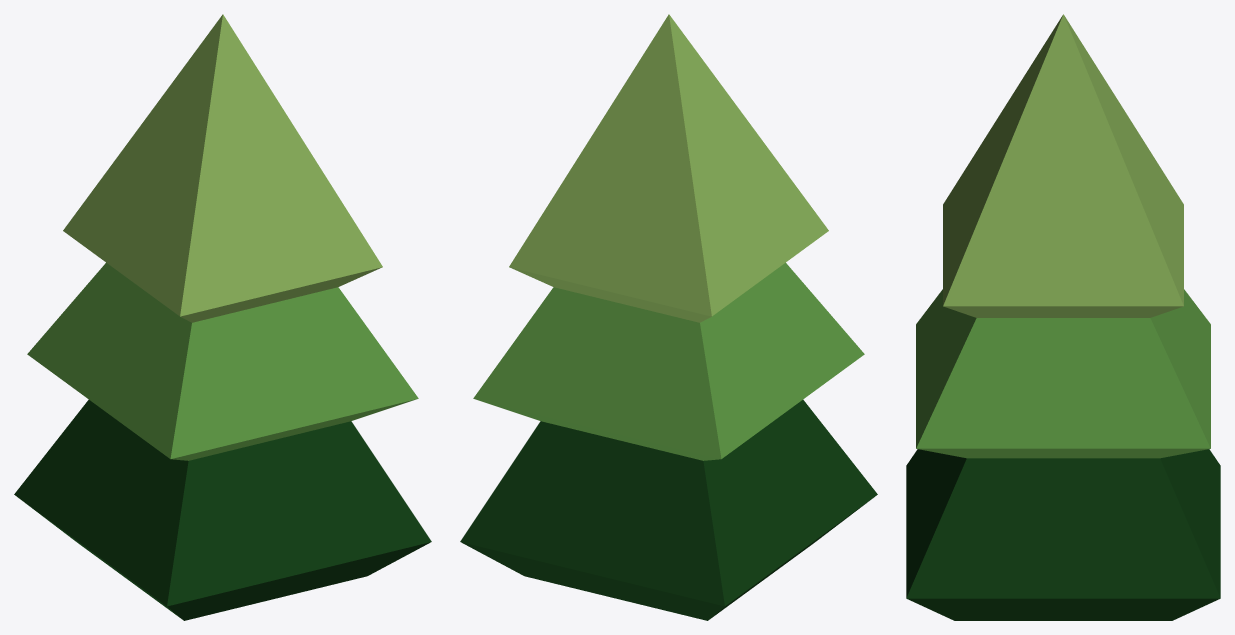
Rendered from Itr_Obj_Flowerpot_Tree_02.FBX.
3 views of the same model, side by side, from view 1: azimuth 30°, elevation 25°; view 2: azimuth 150°, elevation 25°; view 3: azimuth 270°, elevation 25° (orthographic). The views are drawn at different scales.
Parts seen in each view (by area): view 1: Itr_Obj_Flowerpot_Tree_02; view 2: Itr_Obj_Flowerpot_Tree_02; view 3: Itr_Obj_Flowerpot_Tree_02.
Boxes of the visible parts, x1,y1,x2,y2 form: Itr_Obj_Flowerpot_Tree_02: [14, 14, 431, 620]; Itr_Obj_Flowerpot_Tree_02: [460, 14, 877, 620]; Itr_Obj_Flowerpot_Tree_02: [906, 14, 1220, 620].
Size of the model in its own units: 19.69 by 38.76 by 19.69.
